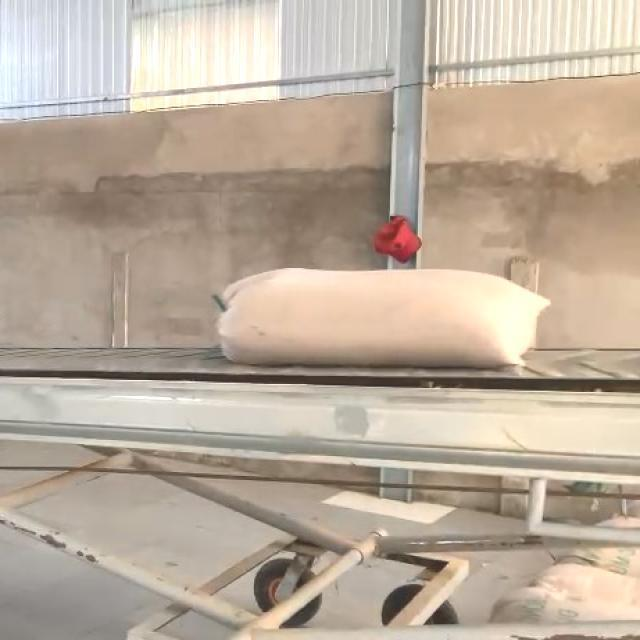gunny_bag: (217, 268, 550, 367)
